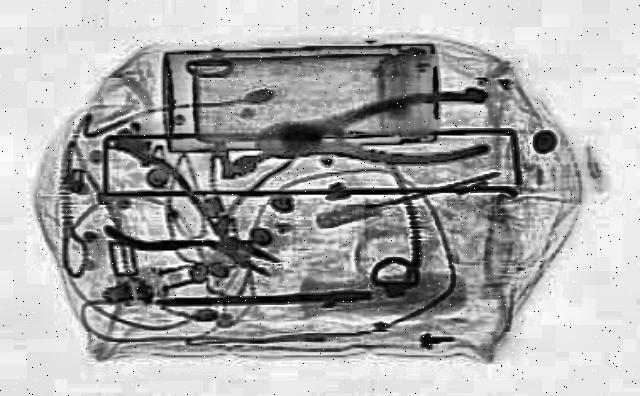Pliers: (46, 146, 320, 296), (246, 87, 499, 176)
